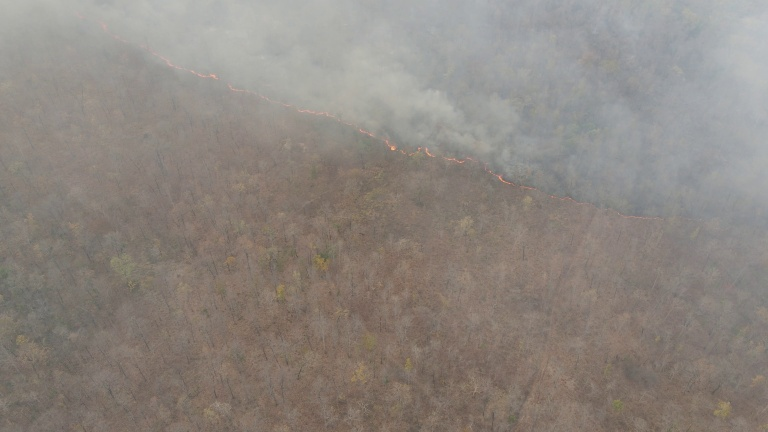fire: (229, 83, 477, 165), (484, 167, 735, 229), (79, 11, 217, 81)
smoke: (165, 1, 768, 222), (1, 1, 162, 198)
